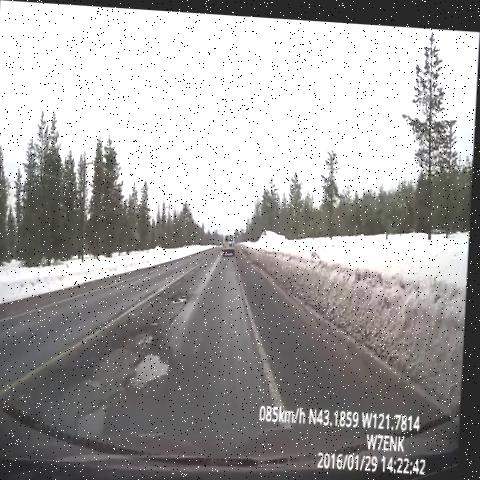pothole: (127, 318, 185, 399), (77, 385, 121, 447), (169, 283, 195, 313)
